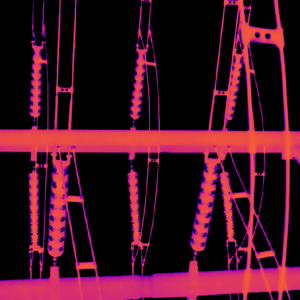insulator: (189, 166, 216, 252), (45, 156, 68, 256), (223, 53, 242, 120), (129, 46, 146, 118), (218, 169, 235, 240), (125, 170, 140, 243), (29, 43, 43, 116), (27, 170, 39, 247)
